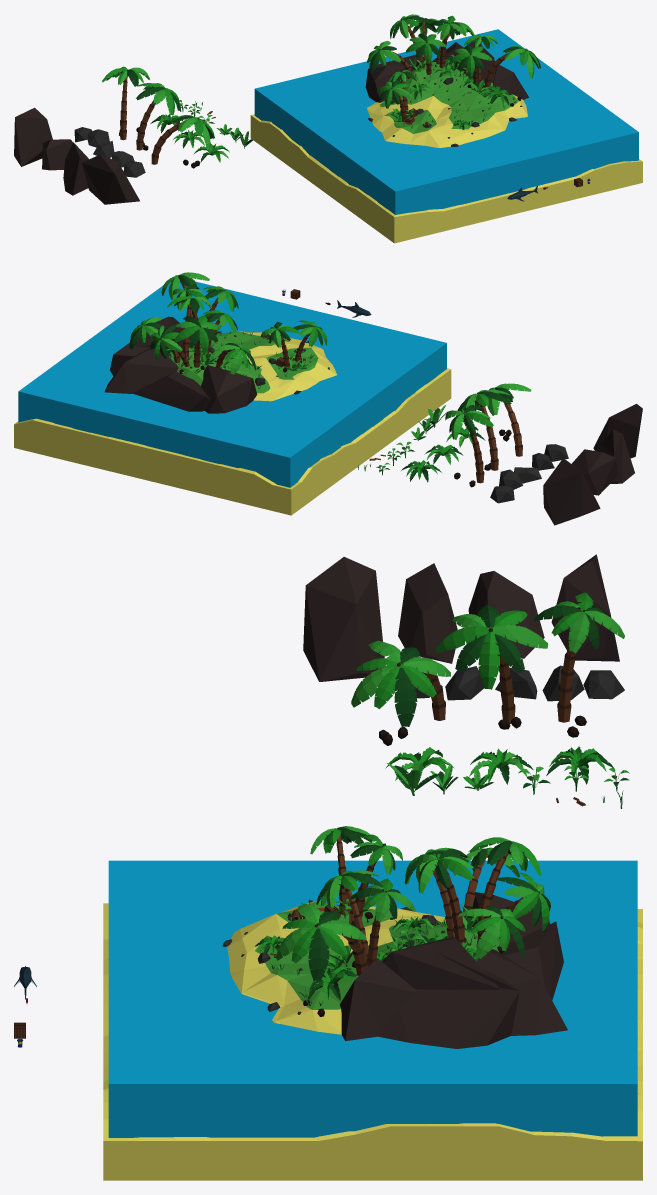
File: wyspa.fbx
The picture shows the model from 3 angles, top to bottom: view 1: azimuth 30°, elevation 25°; view 2: azimuth 150°, elevation 25°; view 3: azimuth 270°, elevation 25°; orthographic projection. The views are drawn at different scales.
Parts seen in each view (by area): view 1: woda, Box003, bigkamen (×5), bigkamen001, Plane088, Plane011, bigkamen005, Plane098, Plane064, Plane097, Plane095, Plane090 (+6 smaller); view 2: woda, Box003, bigkamen (×5), bigkamen001, bigkamen004, bigkamen002, Plane091, Plane055, Plane092, Plane097, Plane011, Plane090 (+12 smaller); view 3: woda, Box003, bigkamen (×5), bigkamen003, Plane011, Plane064, bigkamen005, Plane090, bigkamen004, Plane055, bigkamen002, kamienin (×2) (+10 smaller).
Part boxes in pixels (x1,y1,x2,y2): woda: (254,29,638,214); Box003: (250,62,642,243); bigkamen (×5): (14,41,495,204); bigkamen001: (365,66,413,102); Plane088: (449,45,492,76); Plane011: (136,83,181,115); bigkamen005: (493,65,528,99); Plane098: (406,33,446,63); Plane064: (171,115,214,150); Plane097: (367,41,401,72); Plane095: (377,80,412,108); Plane090: (503,46,540,78); woda: (18,281,446,487); Box003: (14,330,451,515); bigkamen (×5): (134,316,642,525); bigkamen001: (201,365,257,413); bigkamen004: (104,348,178,393); bigkamen002: (133,371,210,411); Plane091: (174,315,220,352); Plane055: (445,405,493,439); Plane092: (150,324,182,360); Plane097: (214,343,255,374); Plane011: (456,390,511,415); Plane090: (161,272,209,299); woda: (108,860,637,1137); Box003: (103,901,642,1180); bigkamen (×5): (303,554,619,989); bigkamen003: (378,953,519,1048); Plane011: (436,604,548,689); Plane064: (351,640,450,726); bigkamen005: (339,958,416,1040); Plane090: (275,903,365,980); bigkamen004: (476,949,567,1035); Plane055: (534,592,624,653); bigkamen002: (502,921,563,1000); kamienin (×2): (445,666,624,700).
Bounding box in the file's own units: 1376 × 321 × 794.
